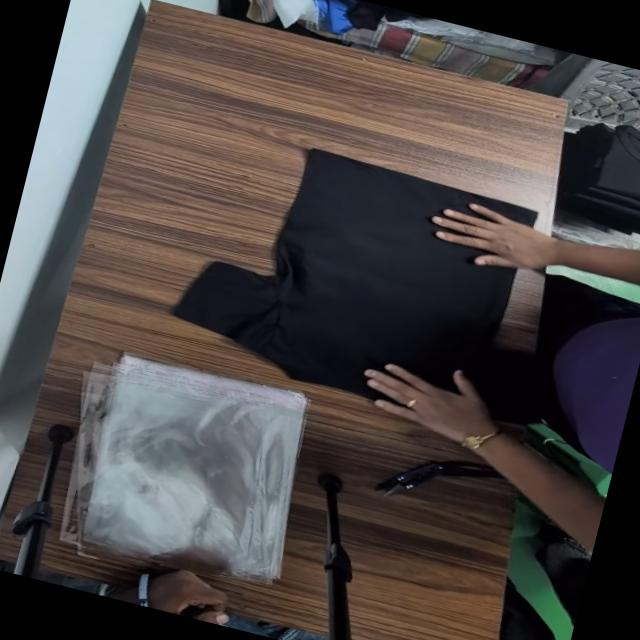new-garment: (174, 149, 512, 398)
